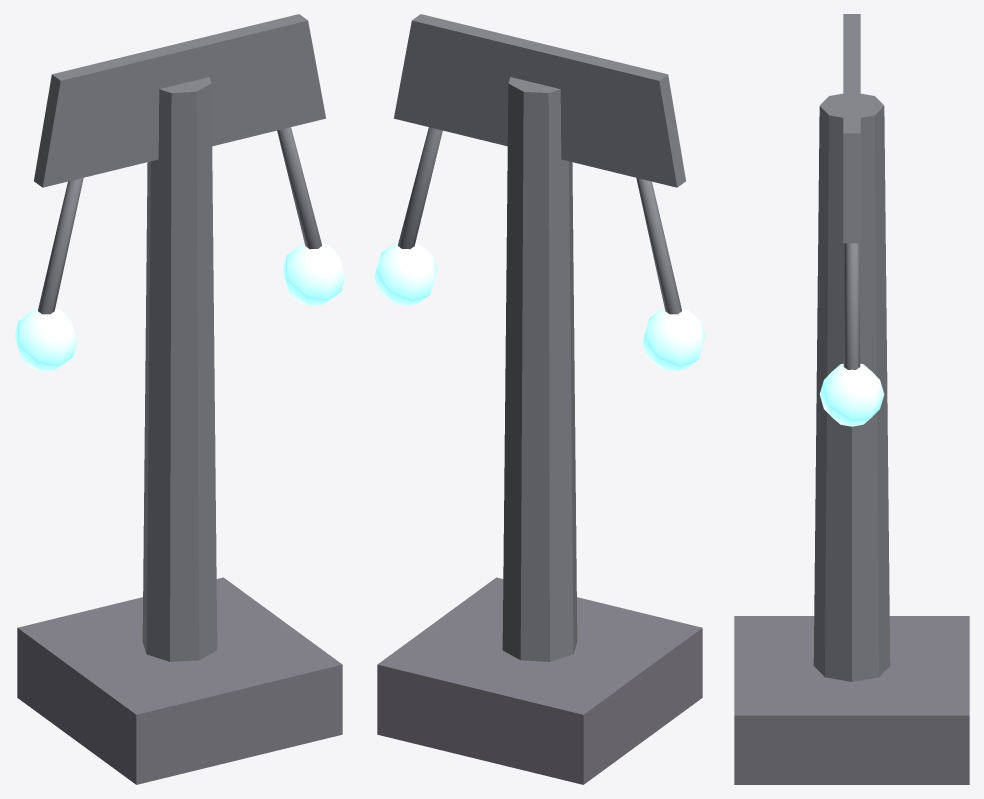
Rendered from mythic-underworld-and-olympus-ferry-toll-post-02b9153c__21372.glb.
The picture shows the model from 3 angles, left to right: view 1: azimuth 30°, elevation 25°; view 2: azimuth 150°, elevation 25°; view 3: azimuth 270°, elevation 25°; orthographic projection.
Visible parts, largest first — view 1: ferry-toll-post; view 2: ferry-toll-post; view 3: ferry-toll-post.
Boxes of the visible parts, bbox=[...] form: ferry-toll-post: bbox=[14, 14, 345, 784]; ferry-toll-post: bbox=[374, 14, 705, 784]; ferry-toll-post: bbox=[734, 14, 969, 784].
Bounding box in the file's own units: 1.26 × 2.48 × 0.8.
